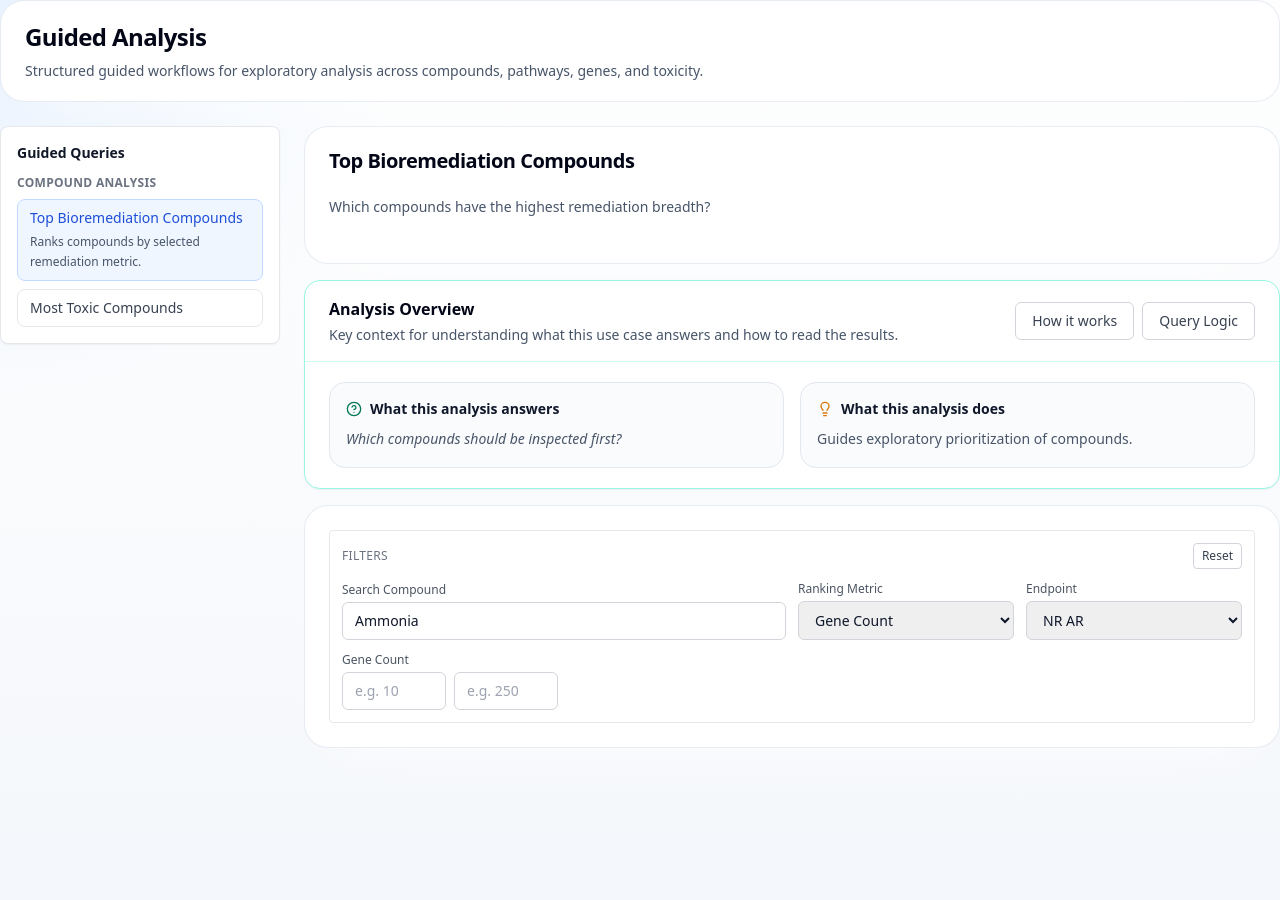
Test: GuidedAnalysisPage › opens and closes the guided dialogs and accordion panels
Check: the text "Which compounds should be inspected first?" is shown, box top-left (346, 429), bottom-right (621, 448)
Click the button "How it works".
click(1075, 321)  # box top-left (1015, 302), bottom-right (1134, 340)
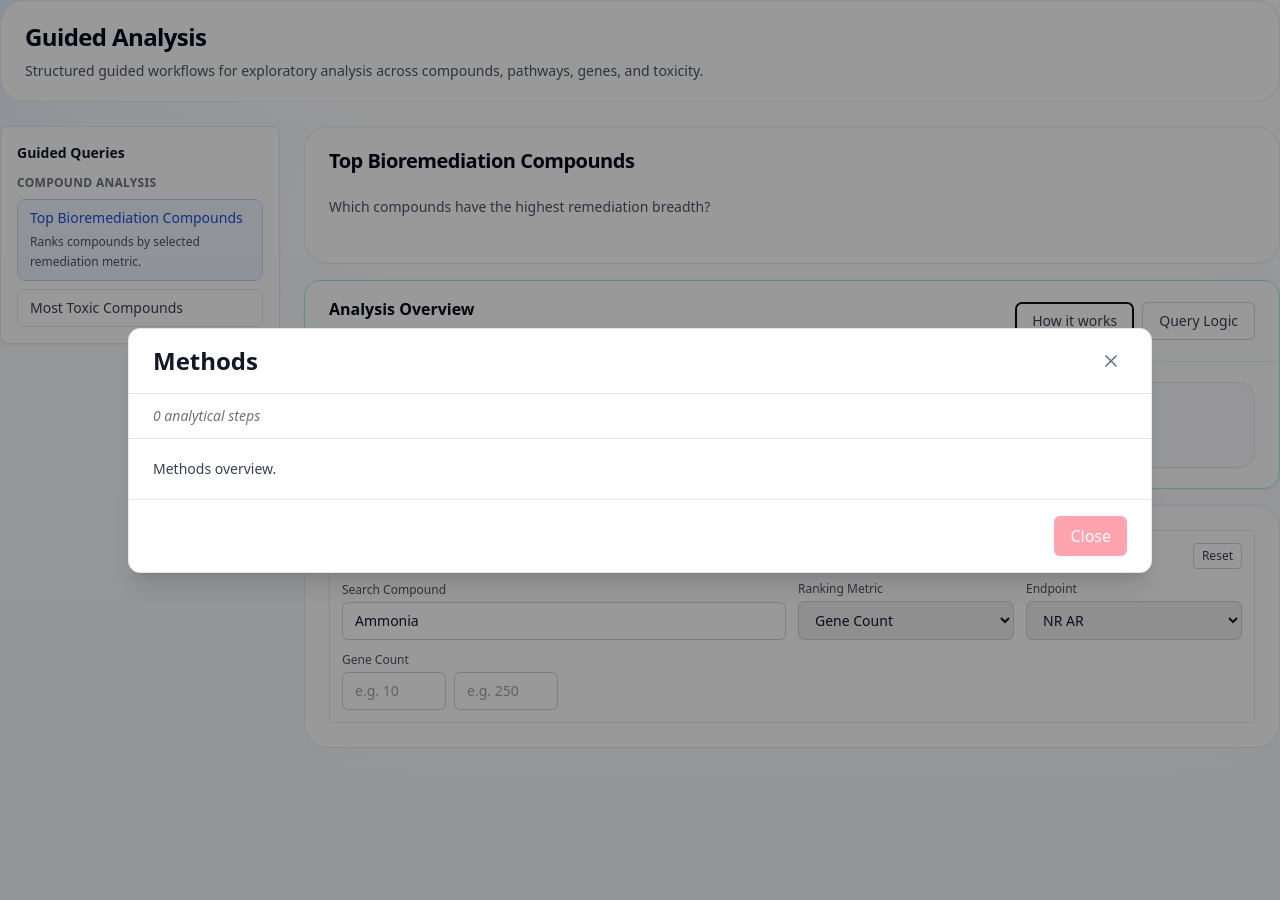
Check: the dialog "Methods" is shown, box top-left (128, 328), bottom-right (1152, 572)
Click the button named "Close methods modal".
click(1111, 360)  # box top-left (1095, 344), bottom-right (1127, 376)
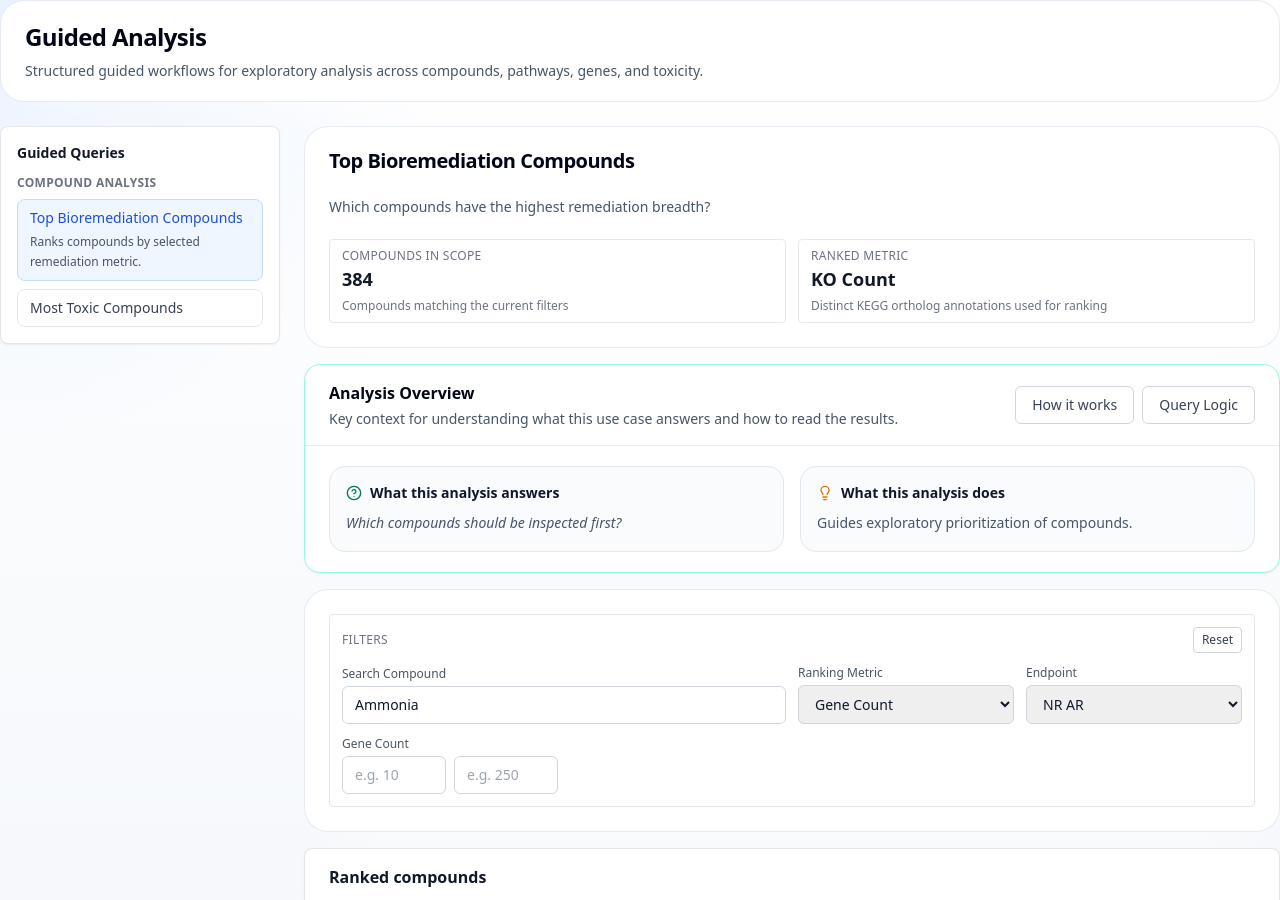
Check: the heading "Methods" is gone
Click the button "Query Logic".
click(1199, 405)  # box top-left (1142, 386), bottom-right (1255, 424)
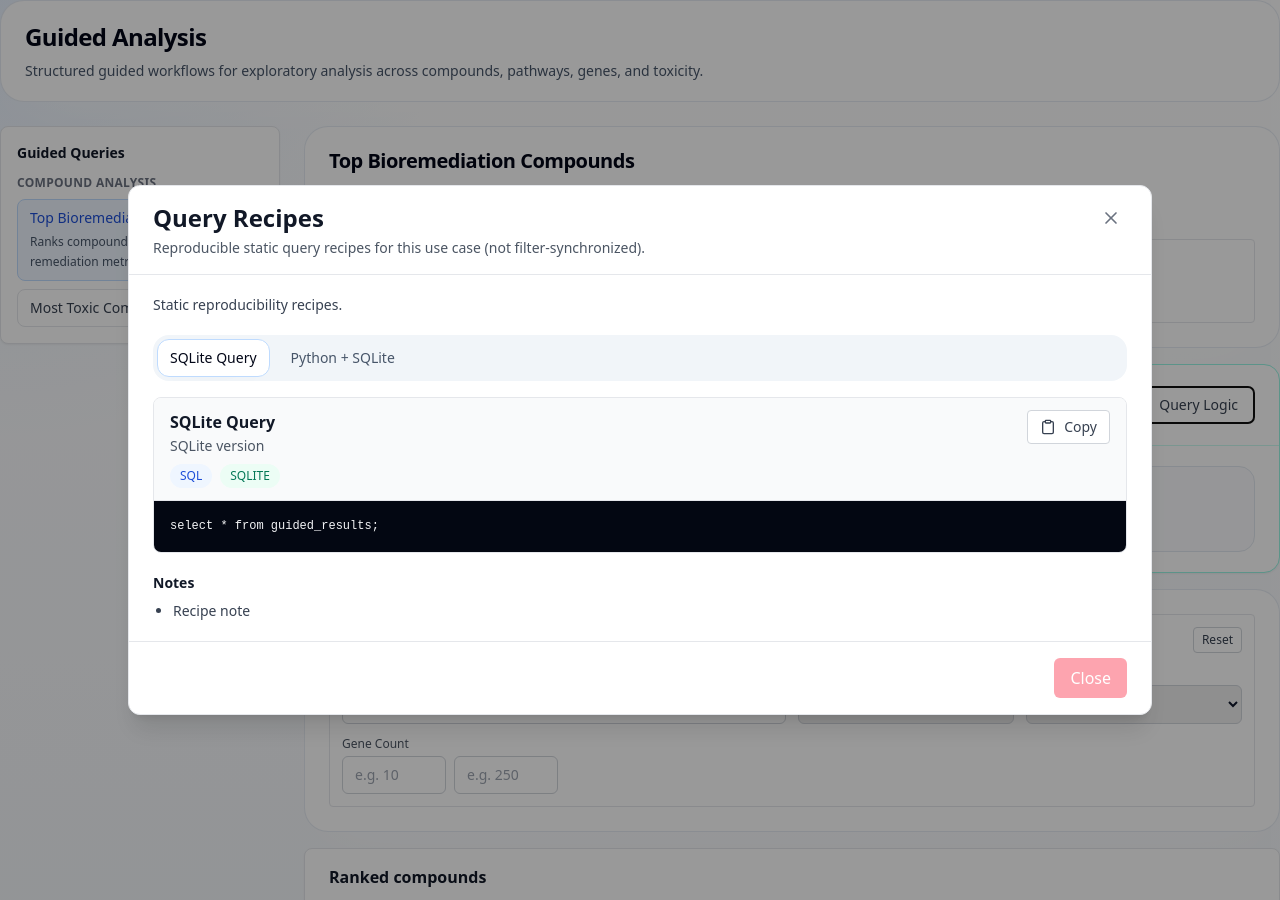
Check: the dialog "Query Recipes" is shown, box top-left (128, 185), bottom-right (1152, 715)
Check: the text "Static reproducibility recipes." is shown, box top-left (153, 295), bottom-right (342, 314)
Check: the tab "SQLite Query" is shown, box top-left (157, 339), bottom-right (270, 377)
Click the button named "Close query recipes modal".
click(1111, 218)  # box top-left (1095, 202), bottom-right (1127, 234)
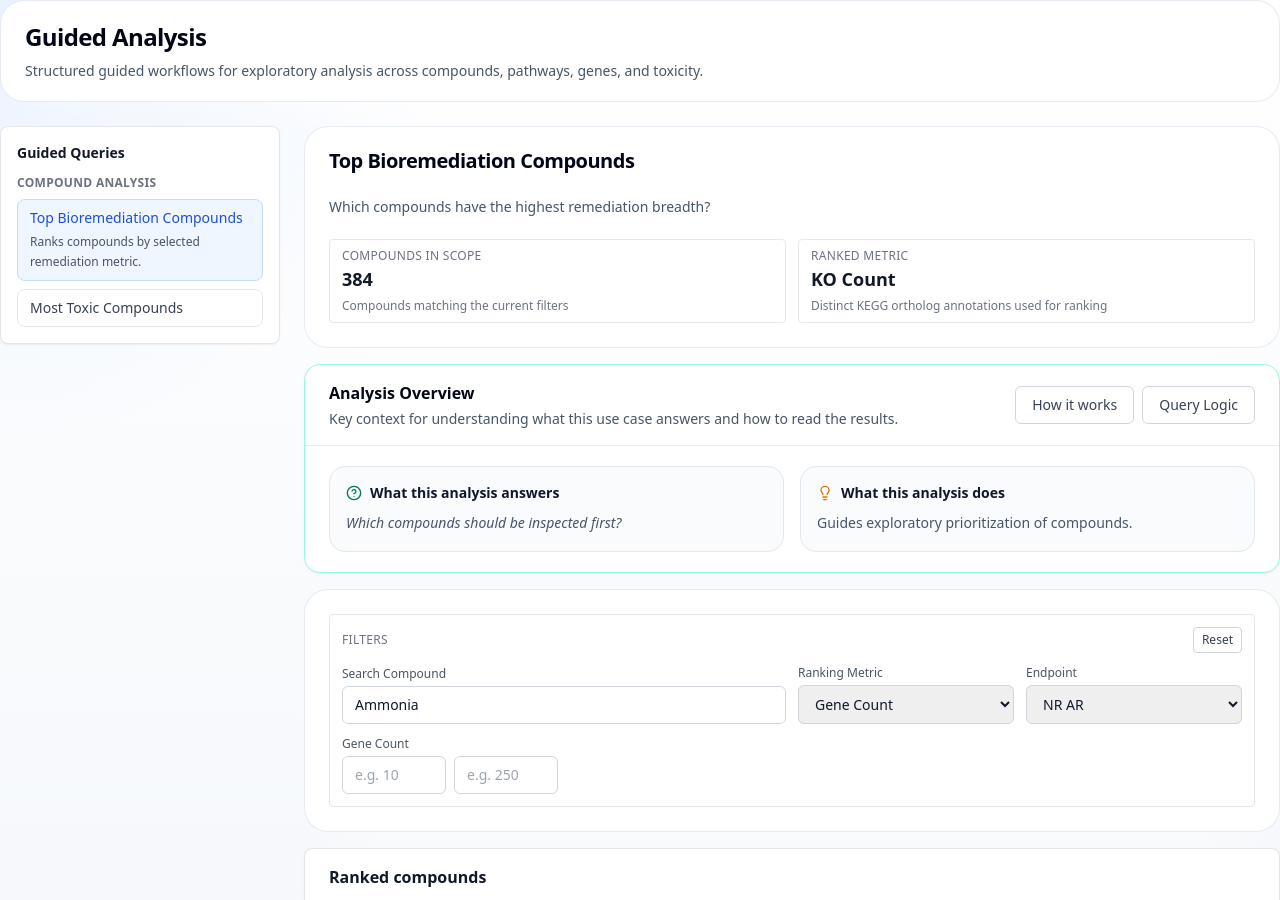
Check: the heading "Query Recipes" is gone
